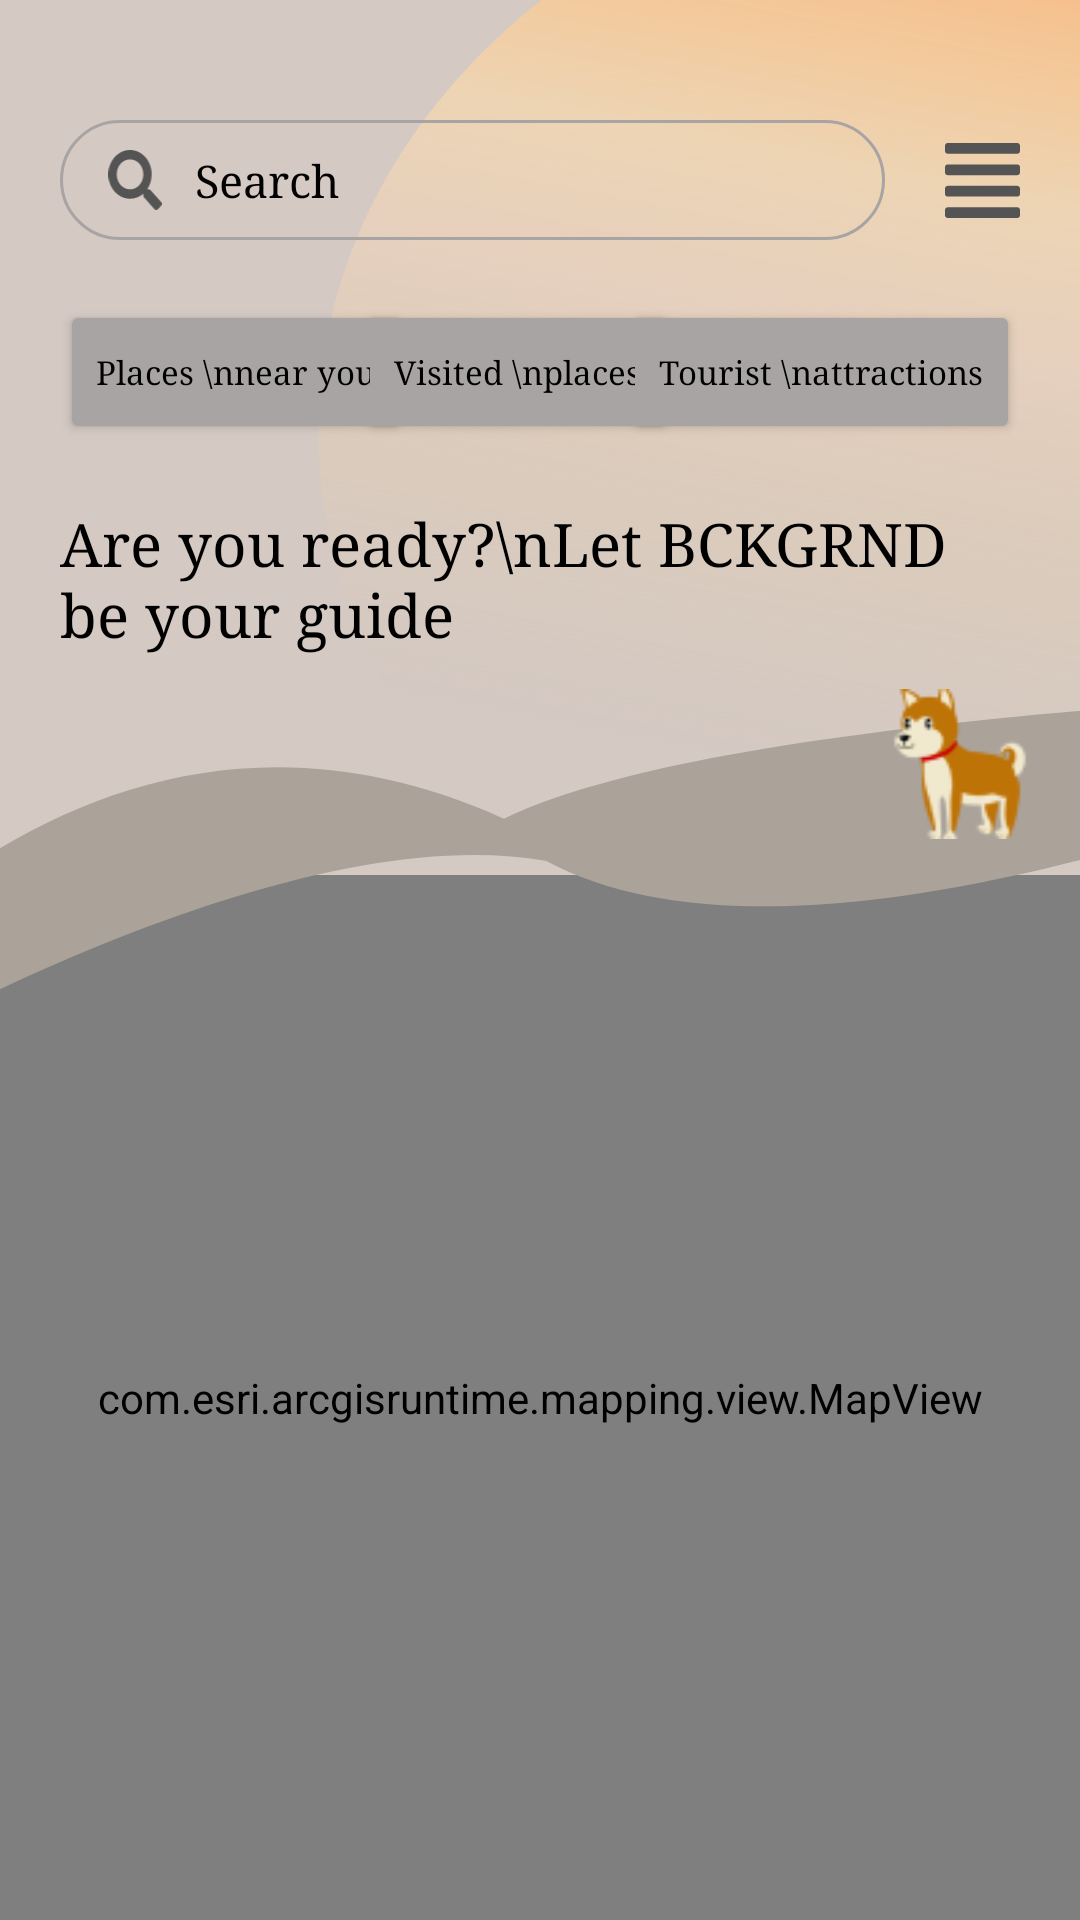

Named icons in this screenshot (1080*1920) and their centers, [x,y]:
dog: [960,764]
iconburger: [982,180]
